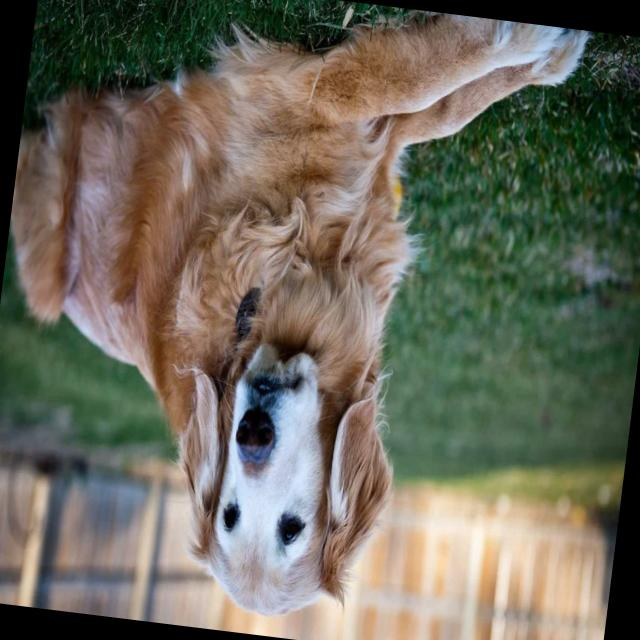Dog: (137, 19, 454, 639)
